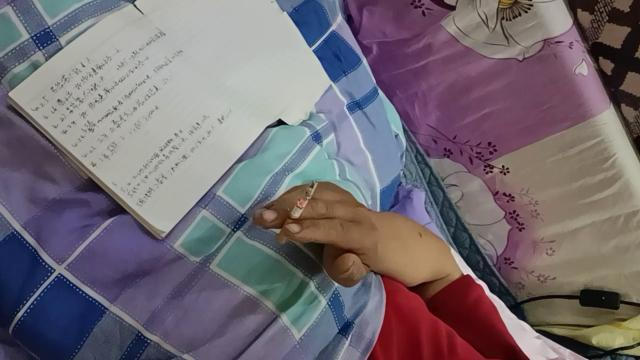Smoking: (276, 180, 318, 244)
